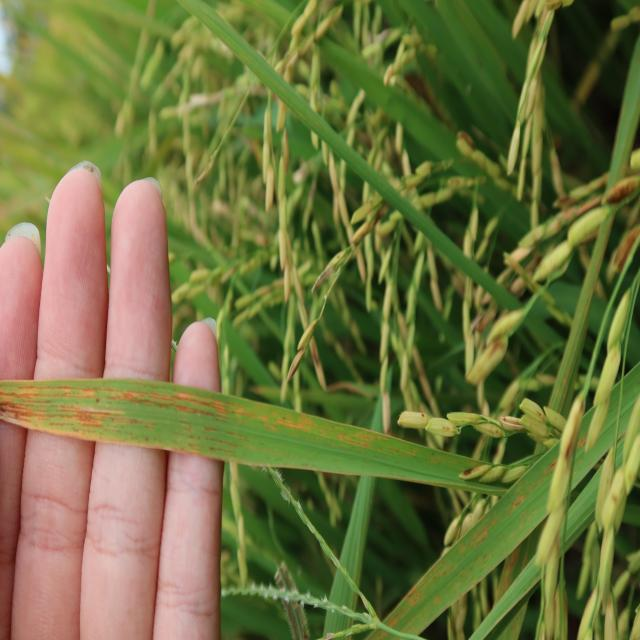Dom soc vi khuan: (0, 385, 231, 424), (0, 399, 125, 442), (393, 557, 458, 622), (509, 458, 556, 513), (459, 518, 498, 555), (276, 414, 332, 439), (338, 433, 394, 457), (398, 446, 417, 459)
